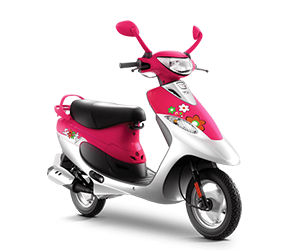motorbike: (47, 20, 243, 241)
